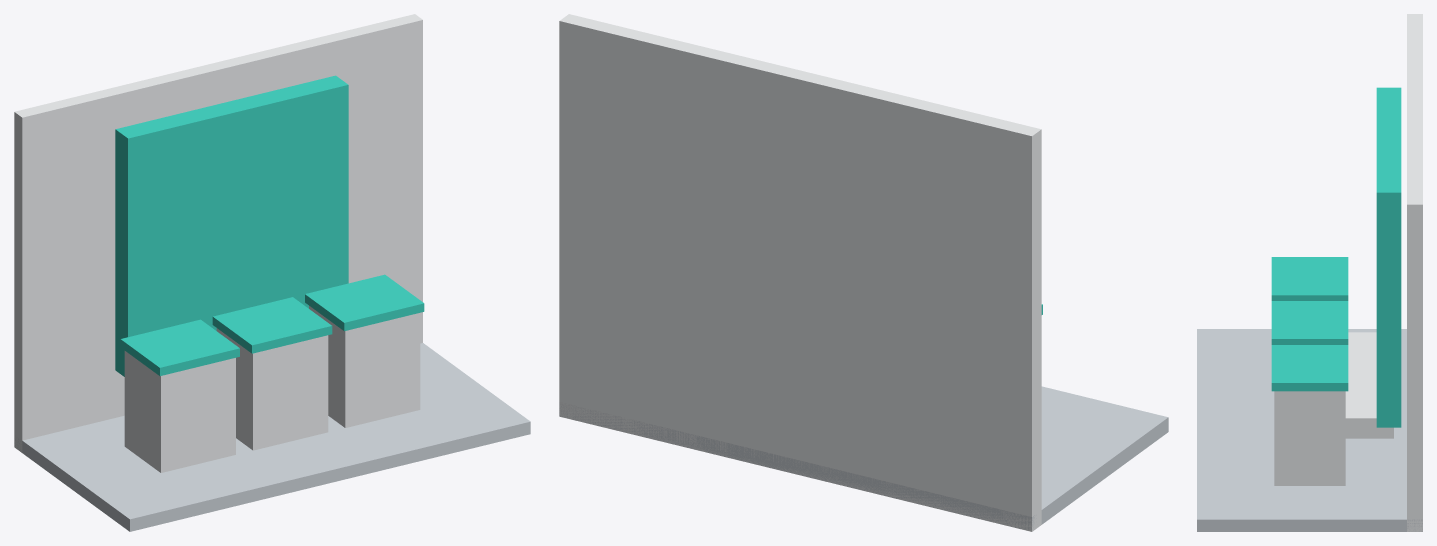
3 views of the same model, side by side, from view 1: azimuth 30°, elevation 25°; view 2: azimuth 150°, elevation 25°; view 3: azimuth 270°, elevation 25° (orthographic). The views are drawn at different scales.
Parts seen in each view (by area): view 1: Exhibition Booth Concept; view 2: Exhibition Booth Concept; view 3: Exhibition Booth Concept.
Boxes of the visible parts, left/top/right/bottom form: Exhibition Booth Concept: left=14, top=14, right=530, bottom=531; Exhibition Booth Concept: left=559, top=14, right=1168, bottom=531; Exhibition Booth Concept: left=1197, top=14, right=1422, bottom=531.
Size of the model in its own units: 4 by 3.2 by 2.
